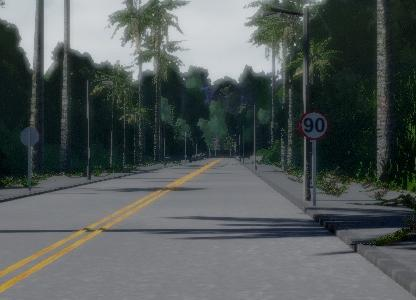Speed_90: (297, 108, 329, 143)
